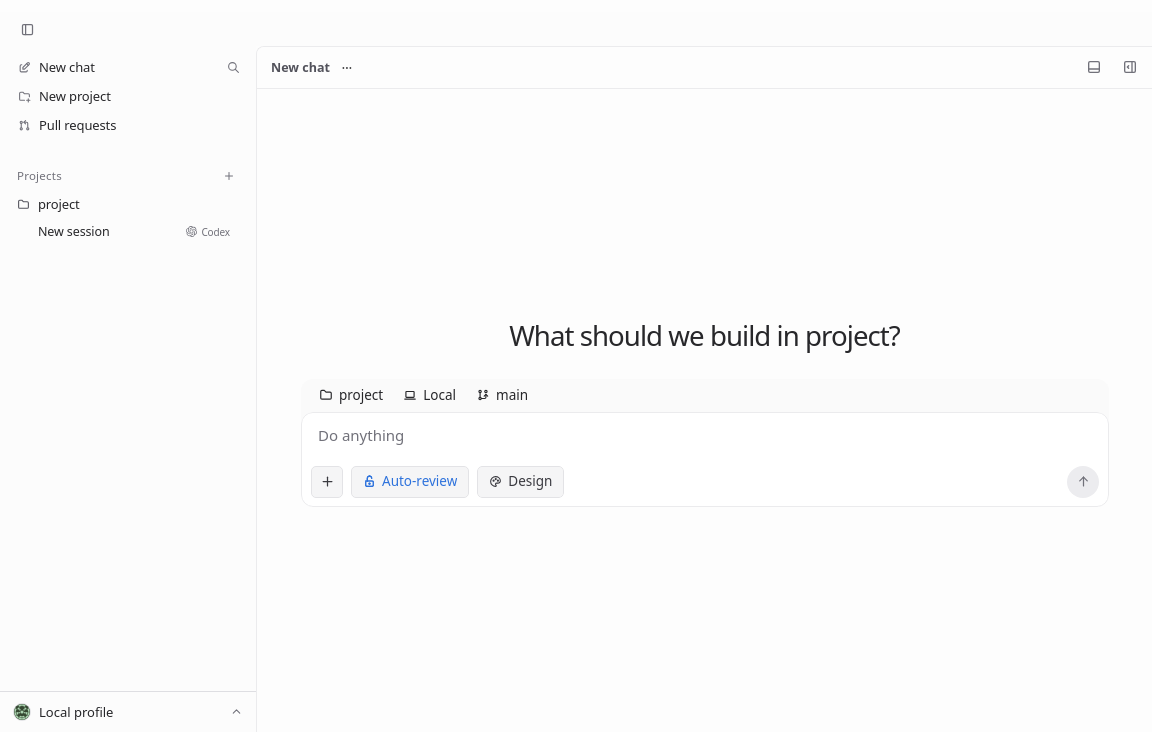
Test: web client › routes /side with an inline prompt into an ephemeral Side chat
Click the button with aria-label "New session," at (126, 232), box [10,219,242,244]
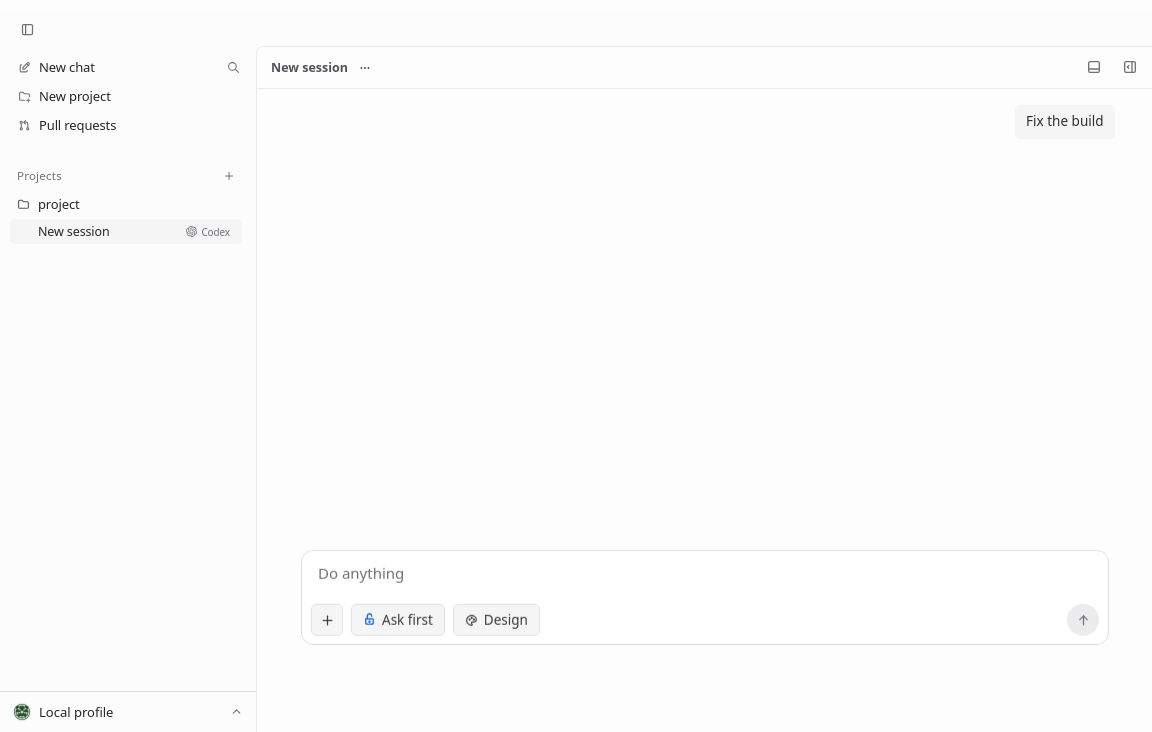
Type "/side why did it fail?" into the text box with placeholder "Do anything" at (704, 598), box [302,574,1108,622]
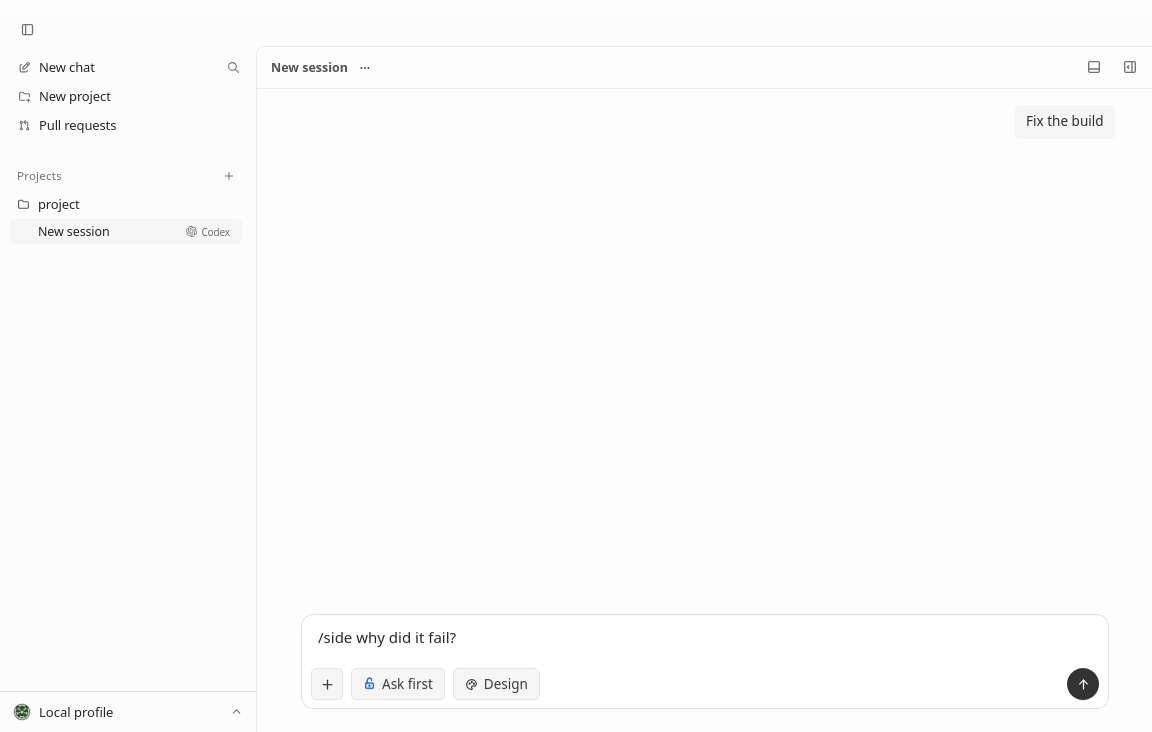
Press Enter in the text box with placeholder "Do anything", box [302,623,1108,671]
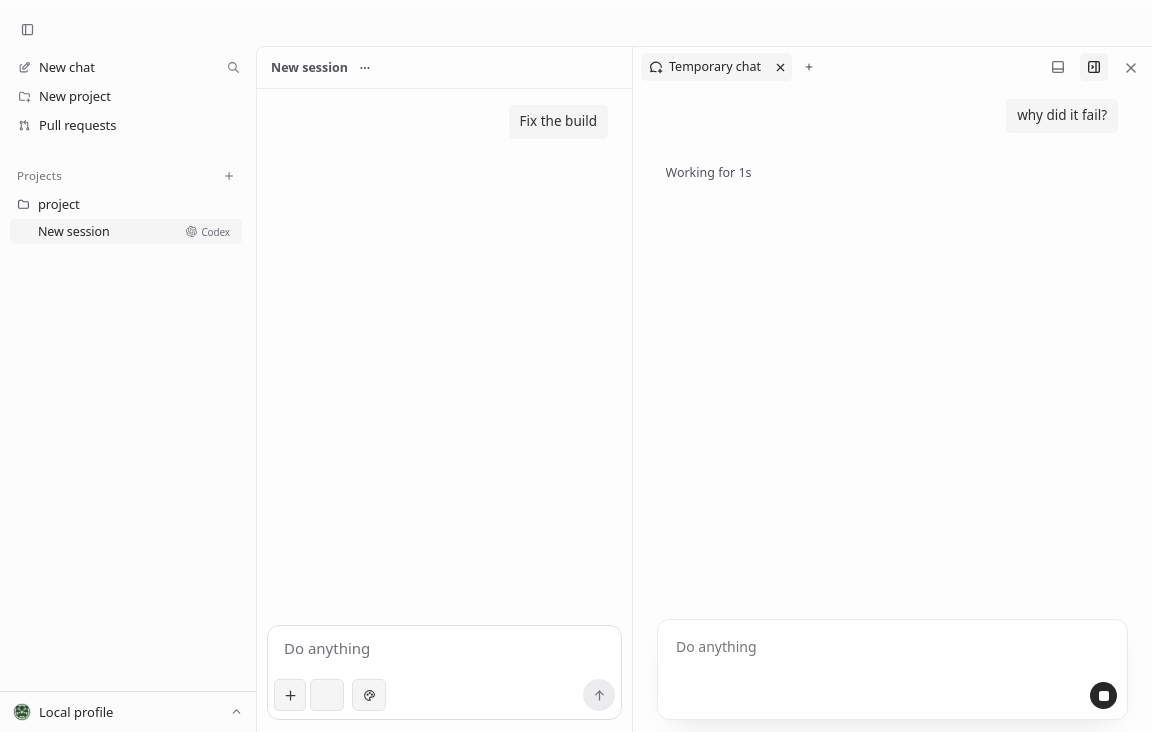
Expected: the text box named "Message temporary chat" is shown, [658,620,1127,713]
